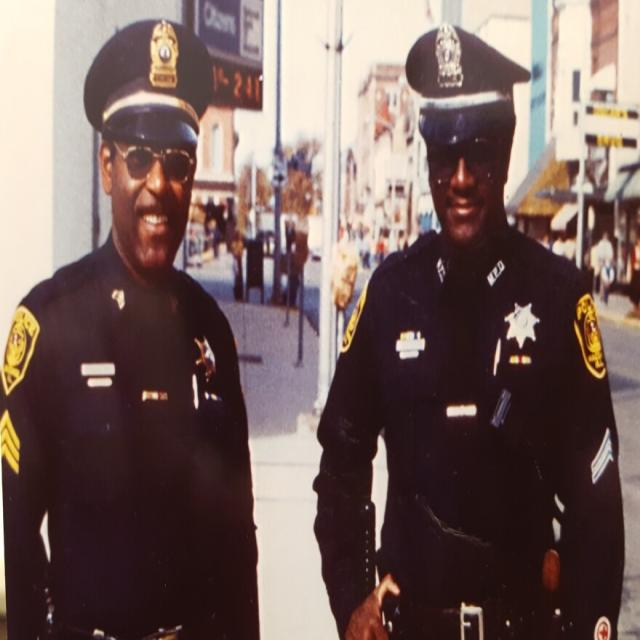police: (292, 11, 614, 640), (16, 33, 261, 640)
